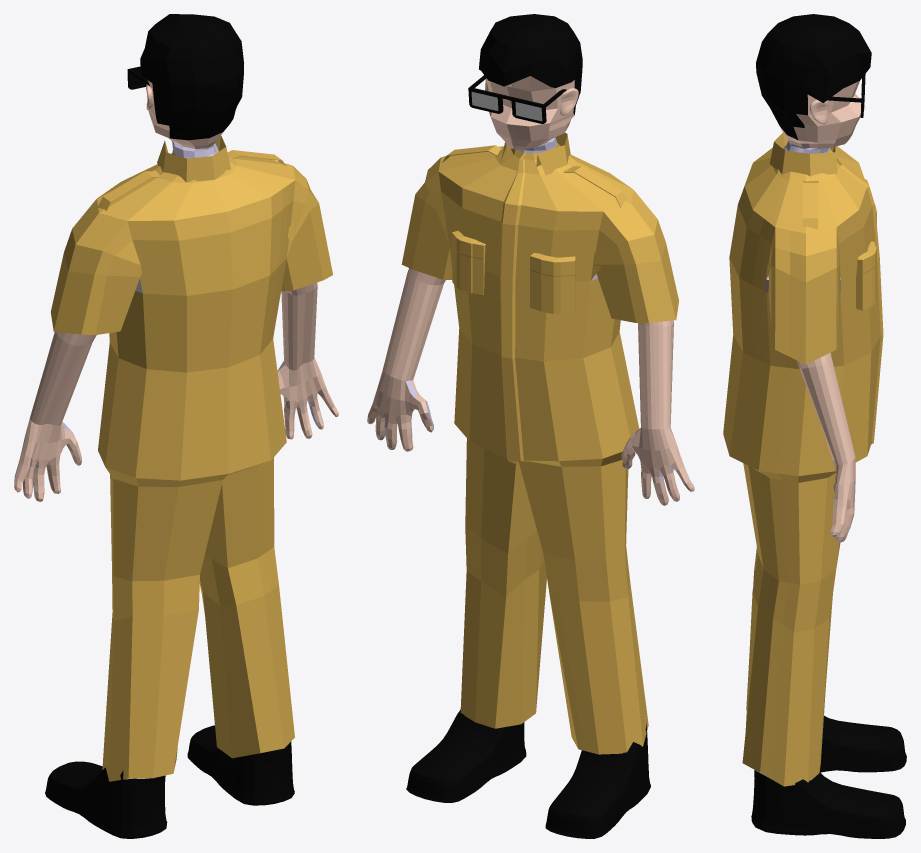
The model's file is guruwith hand.glb.
3 renders of one model, left to right at view 1: azimuth 30°, elevation 25°; view 2: azimuth 150°, elevation 25°; view 3: azimuth 270°, elevation 25°, orthographic.
Parts seen in each view (by area): view 1: Cube.001, Cube.002, Cube.003, Torus, Cube.006; view 2: Cube.001, Cube.002, Cube.003, Plane.002, Plane.001, Cube, Torus, Cube.006; view 3: Cube.001, Cube.003, Cube.002, Torus, Plane.001, Cube.007, Cube.005.
Boxes of the visible parts, x1,y1,x2,y2 form: Cube.001: [14, 14, 338, 781]; Cube.002: [45, 761, 167, 838]; Cube.003: [187, 725, 294, 805]; Torus: [157, 135, 230, 182]; Cube.006: [97, 170, 161, 210]; Cube.001: [367, 14, 694, 754]; Cube.002: [545, 723, 650, 838]; Cube.003: [406, 709, 526, 802]; Plane.002: [530, 252, 575, 314]; Plane.001: [452, 230, 485, 295]; Cube: [468, 75, 566, 123]; Torus: [500, 132, 570, 174]; Cube.006: [563, 166, 627, 208]; Cube.001: [723, 14, 883, 786]; Cube.003: [751, 770, 905, 838]; Cube.002: [819, 715, 906, 772]; Torus: [769, 133, 837, 176]; Plane.001: [856, 241, 876, 310]; Cube.007: [802, 180, 818, 229]; Cube.005: [810, 100, 828, 124].
Size of the model in its own units: 1.7 by 3.88 by 0.8283.
